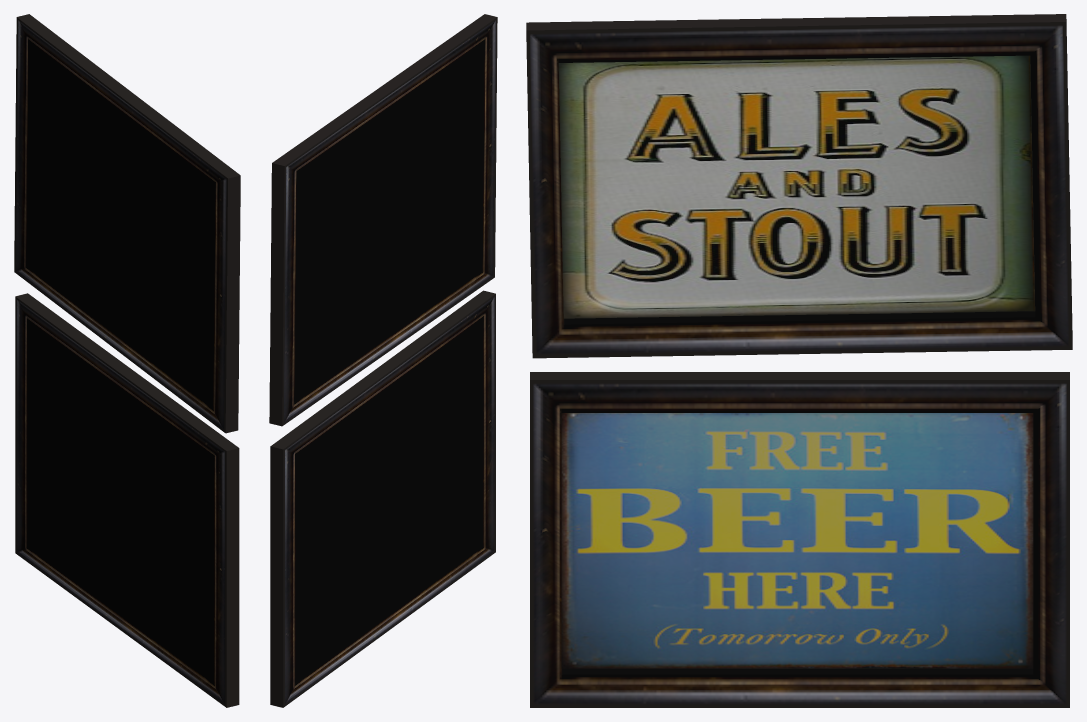
File: P_Pics02.fbx
3 renders of one model, left to right at view 1: azimuth 30°, elevation 25°; view 2: azimuth 150°, elevation 25°; view 3: azimuth 270°, elevation 25°, orthographic. The views are drawn at different scales.
Visible parts, largest first — view 1: Empty_Mesh; view 2: Empty_Mesh; view 3: Empty_Mesh.
Boxes of the visible parts, box(x1,y1,x2,y2) form: Empty_Mesh: box(14, 14, 240, 707); Empty_Mesh: box(269, 14, 497, 707); Empty_Mesh: box(526, 14, 1072, 707).
Size of the model in its own units: 0.0345 by 1.4 by 1.01.
